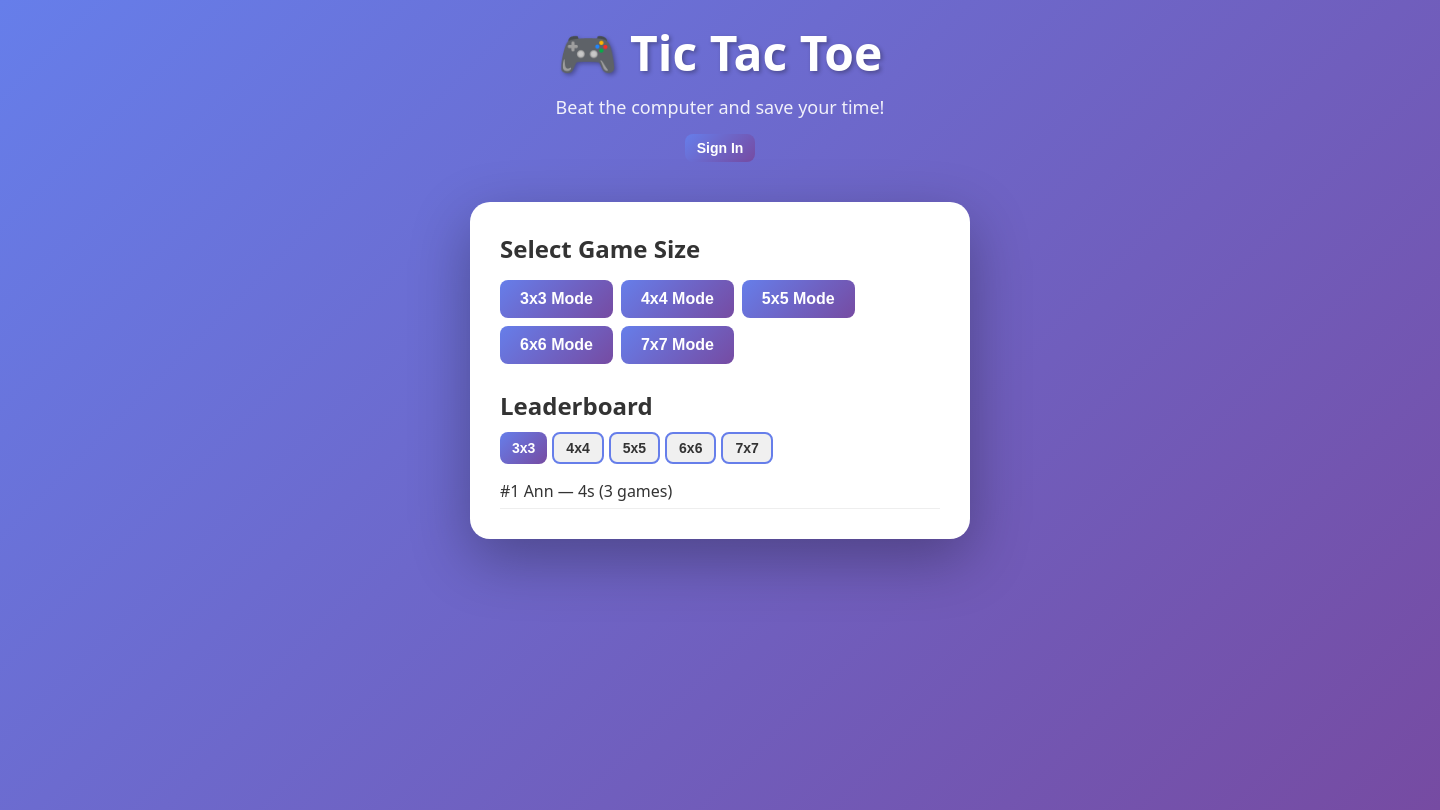
Scenario: App: choosing a username › prompts right after the first sign-in, saves the choice and shows it
This screenshot has width=1440, height=810.
Click the button "Sign In". click: (720, 148)
box: top-left (685, 134), bottom-right (755, 162)
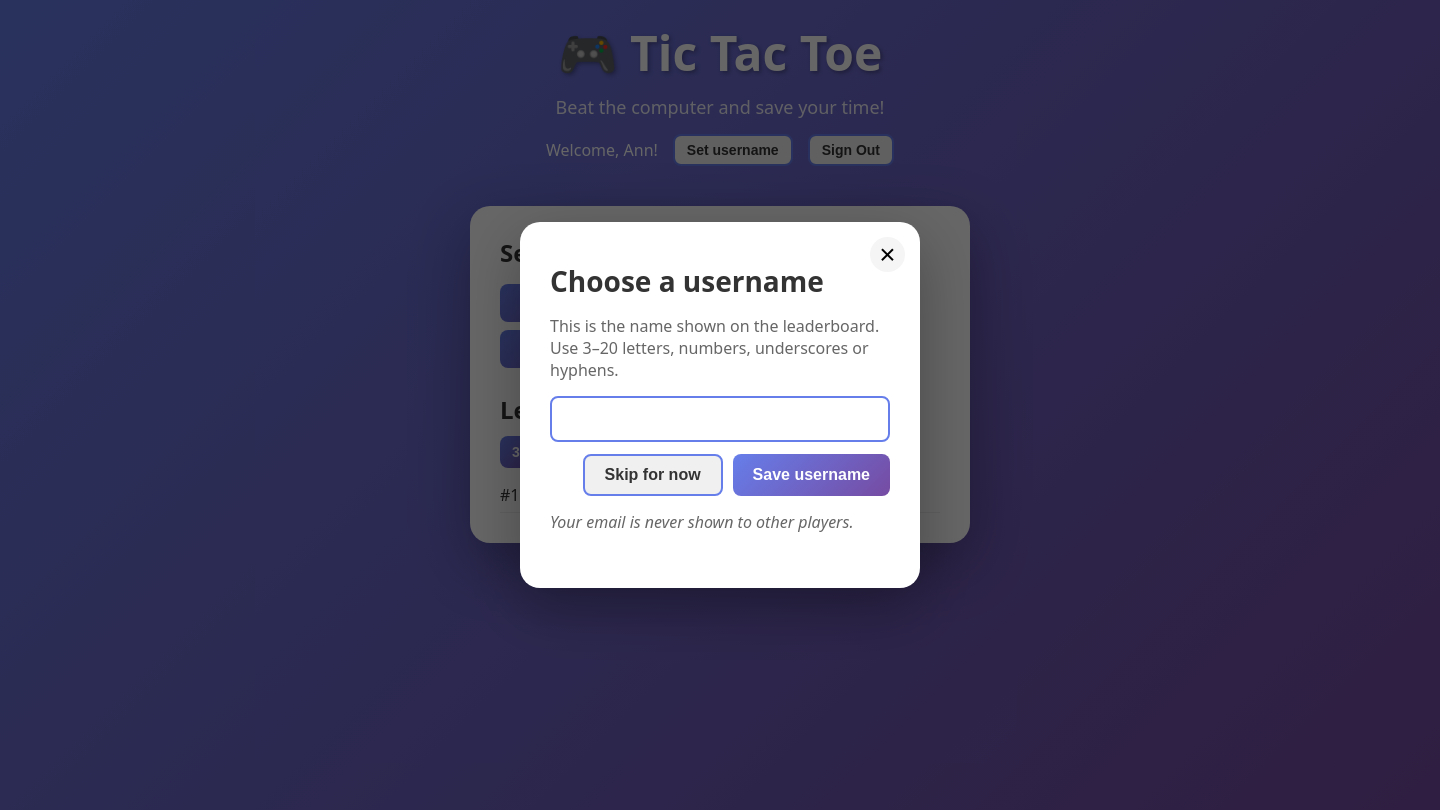
Result: the heading "Choose a username" is shown at top-left (550, 262), bottom-right (824, 300)
Result: the text "Welcome, Ann!" is shown at top-left (546, 139), bottom-right (658, 161)
Type "Ann_T" into the field named "Username". click: (720, 419)
box: top-left (550, 396), bottom-right (890, 442)
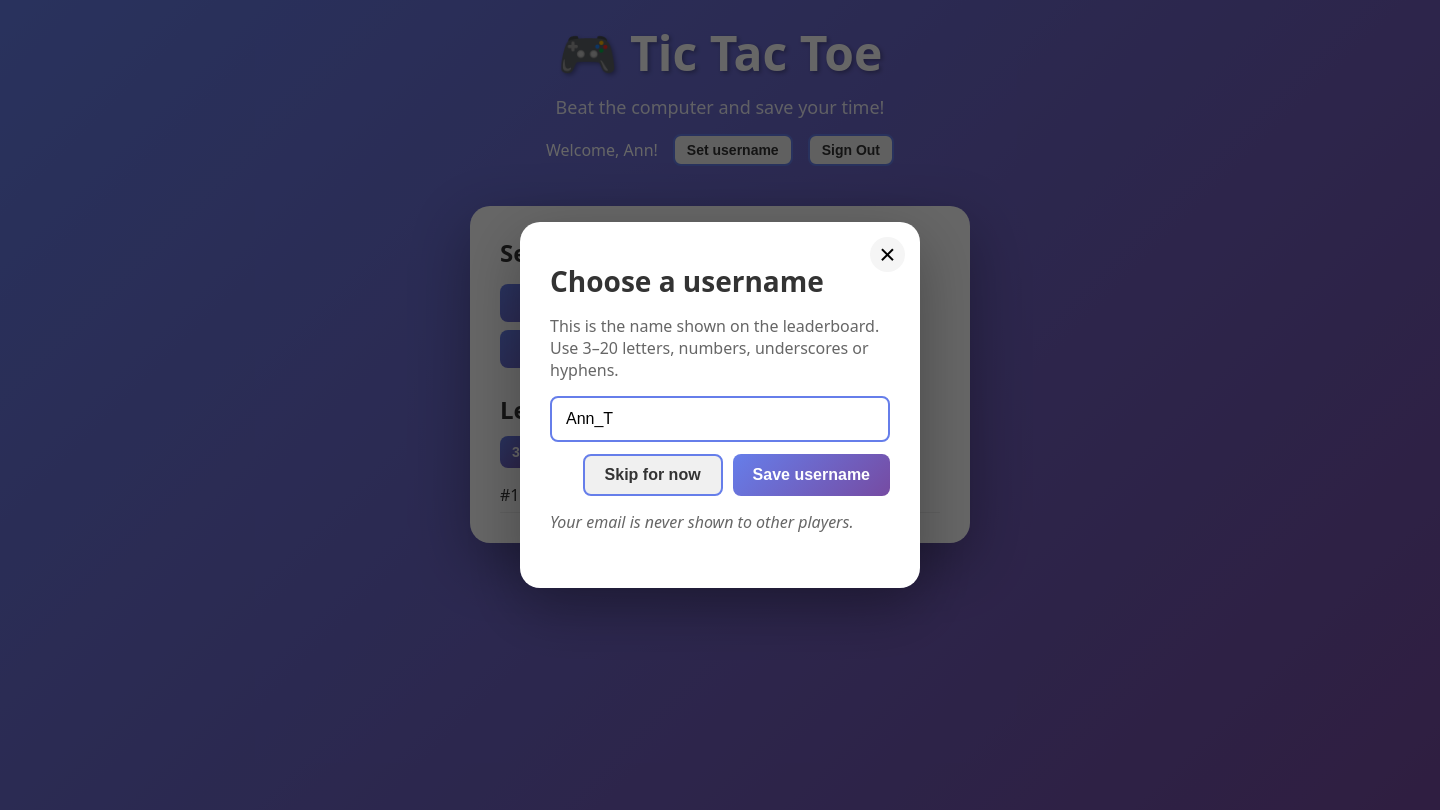
Click the button "Save username". click: (811, 475)
box: top-left (733, 454), bottom-right (890, 496)
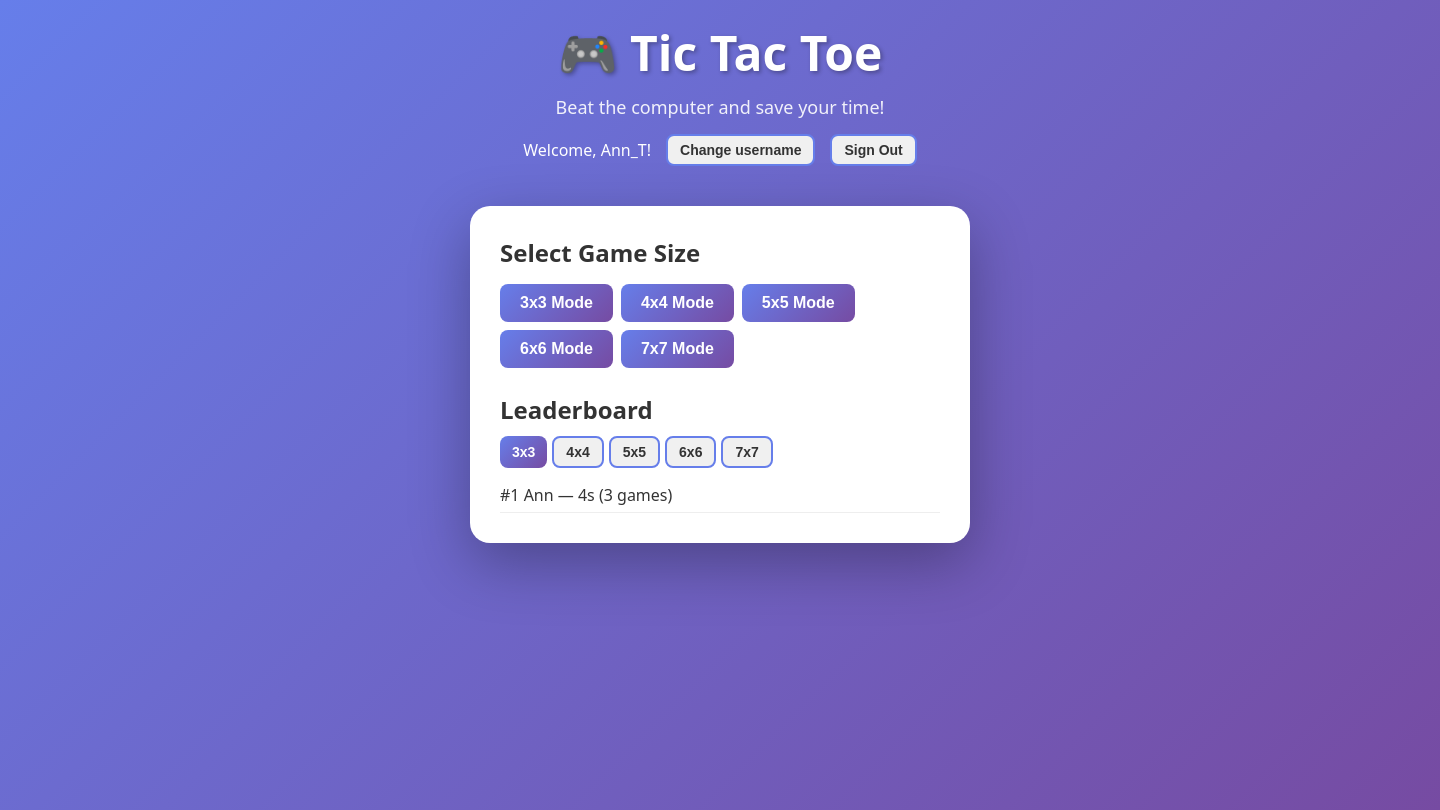
Result: the heading "Choose a username" is gone
Result: the text "Welcome, Ann_T!" is shown at top-left (523, 139), bottom-right (651, 161)
